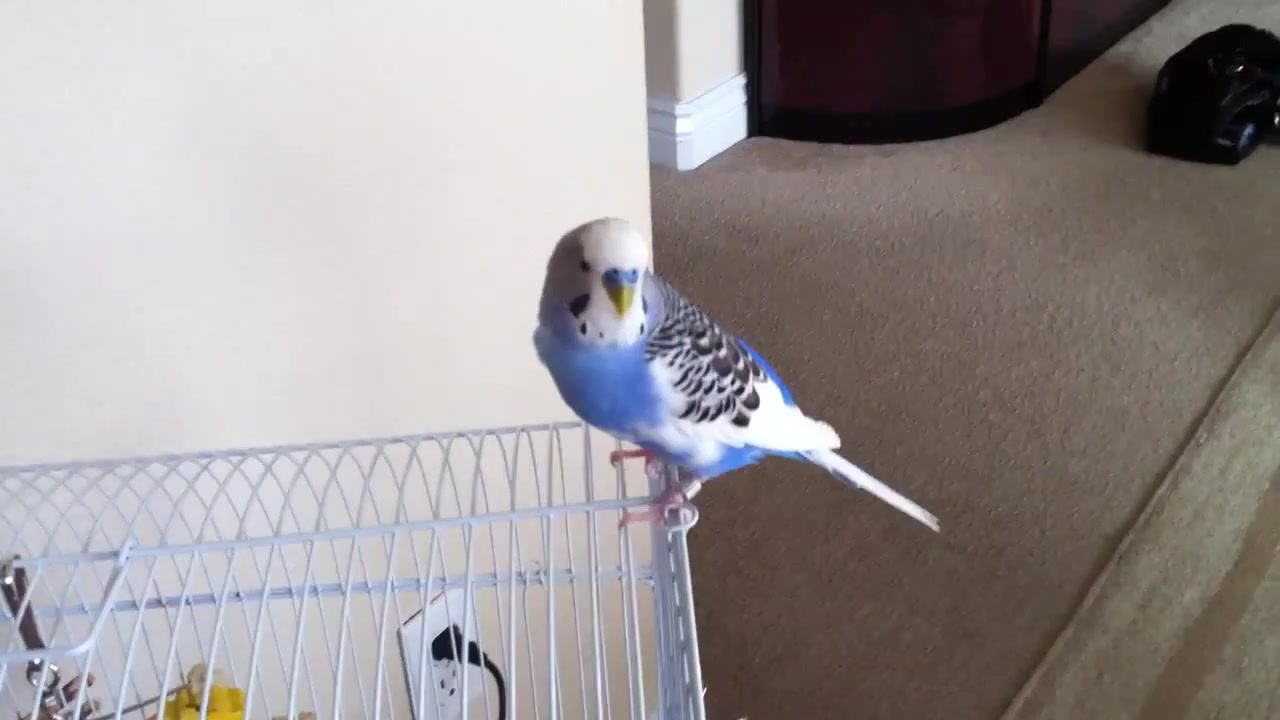bird: (532, 218, 943, 534)
